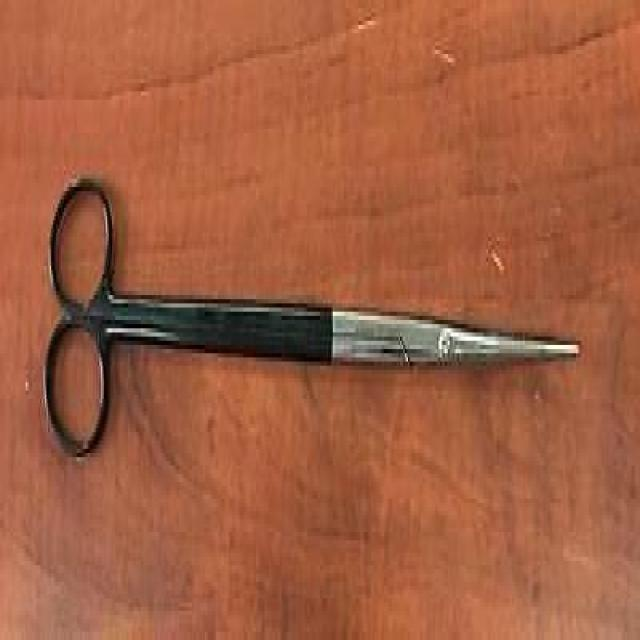Mayo_metz: (41, 170, 582, 466)
